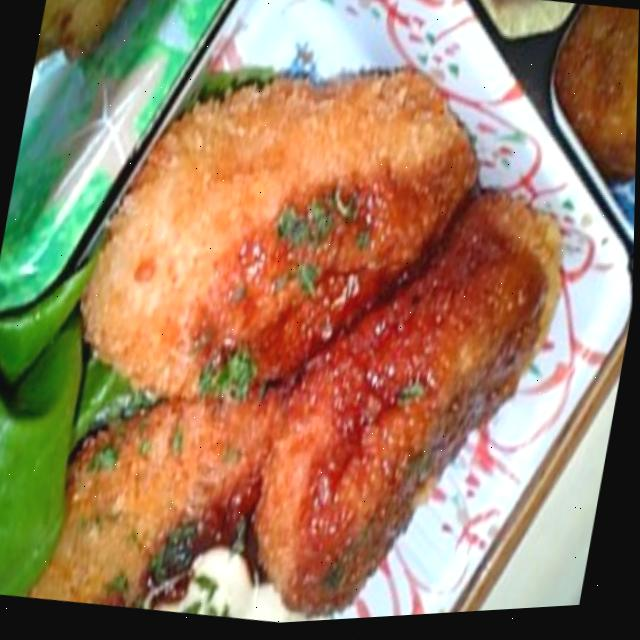炸货点心: (18, 9, 639, 639)
